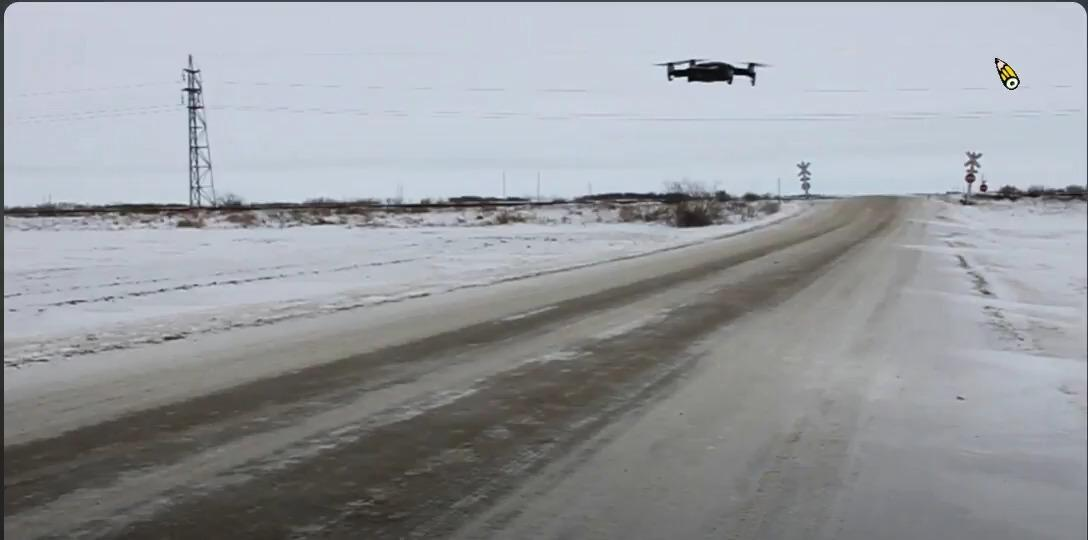dr: (653, 38, 777, 98)
